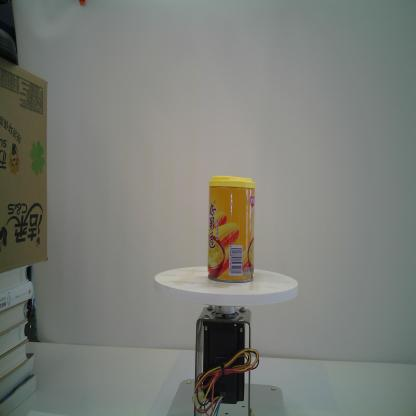Canned Food: (206, 172, 256, 283)
